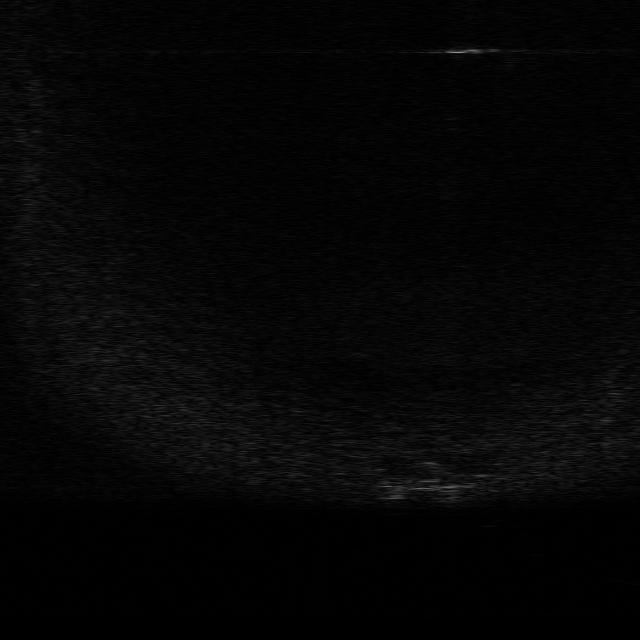plane: (366, 458, 485, 503)
